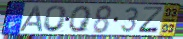3: (118, 6, 141, 34)
8: (91, 5, 113, 35)
A: (17, 5, 45, 33)
O: (41, 5, 69, 33)
Q: (68, 5, 93, 34)
Z: (137, 6, 165, 35)
